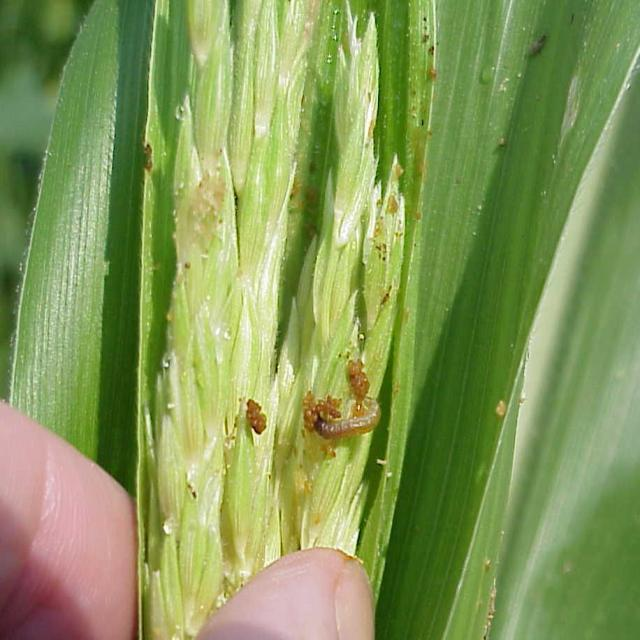cornborer-Larva-: (307, 390, 388, 444)
